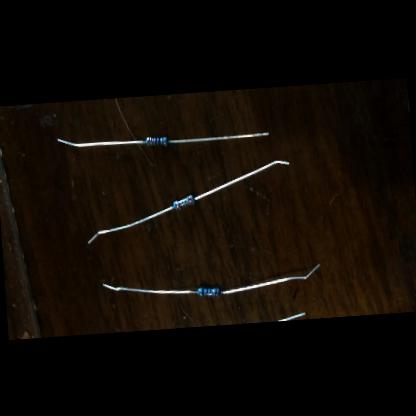resistor: (172, 194, 195, 210), (144, 134, 168, 146), (197, 286, 221, 298)
wire: (193, 158, 291, 199), (86, 206, 176, 244), (221, 262, 322, 294), (103, 276, 196, 298), (58, 132, 146, 148), (169, 132, 269, 142), (276, 311, 305, 320)
